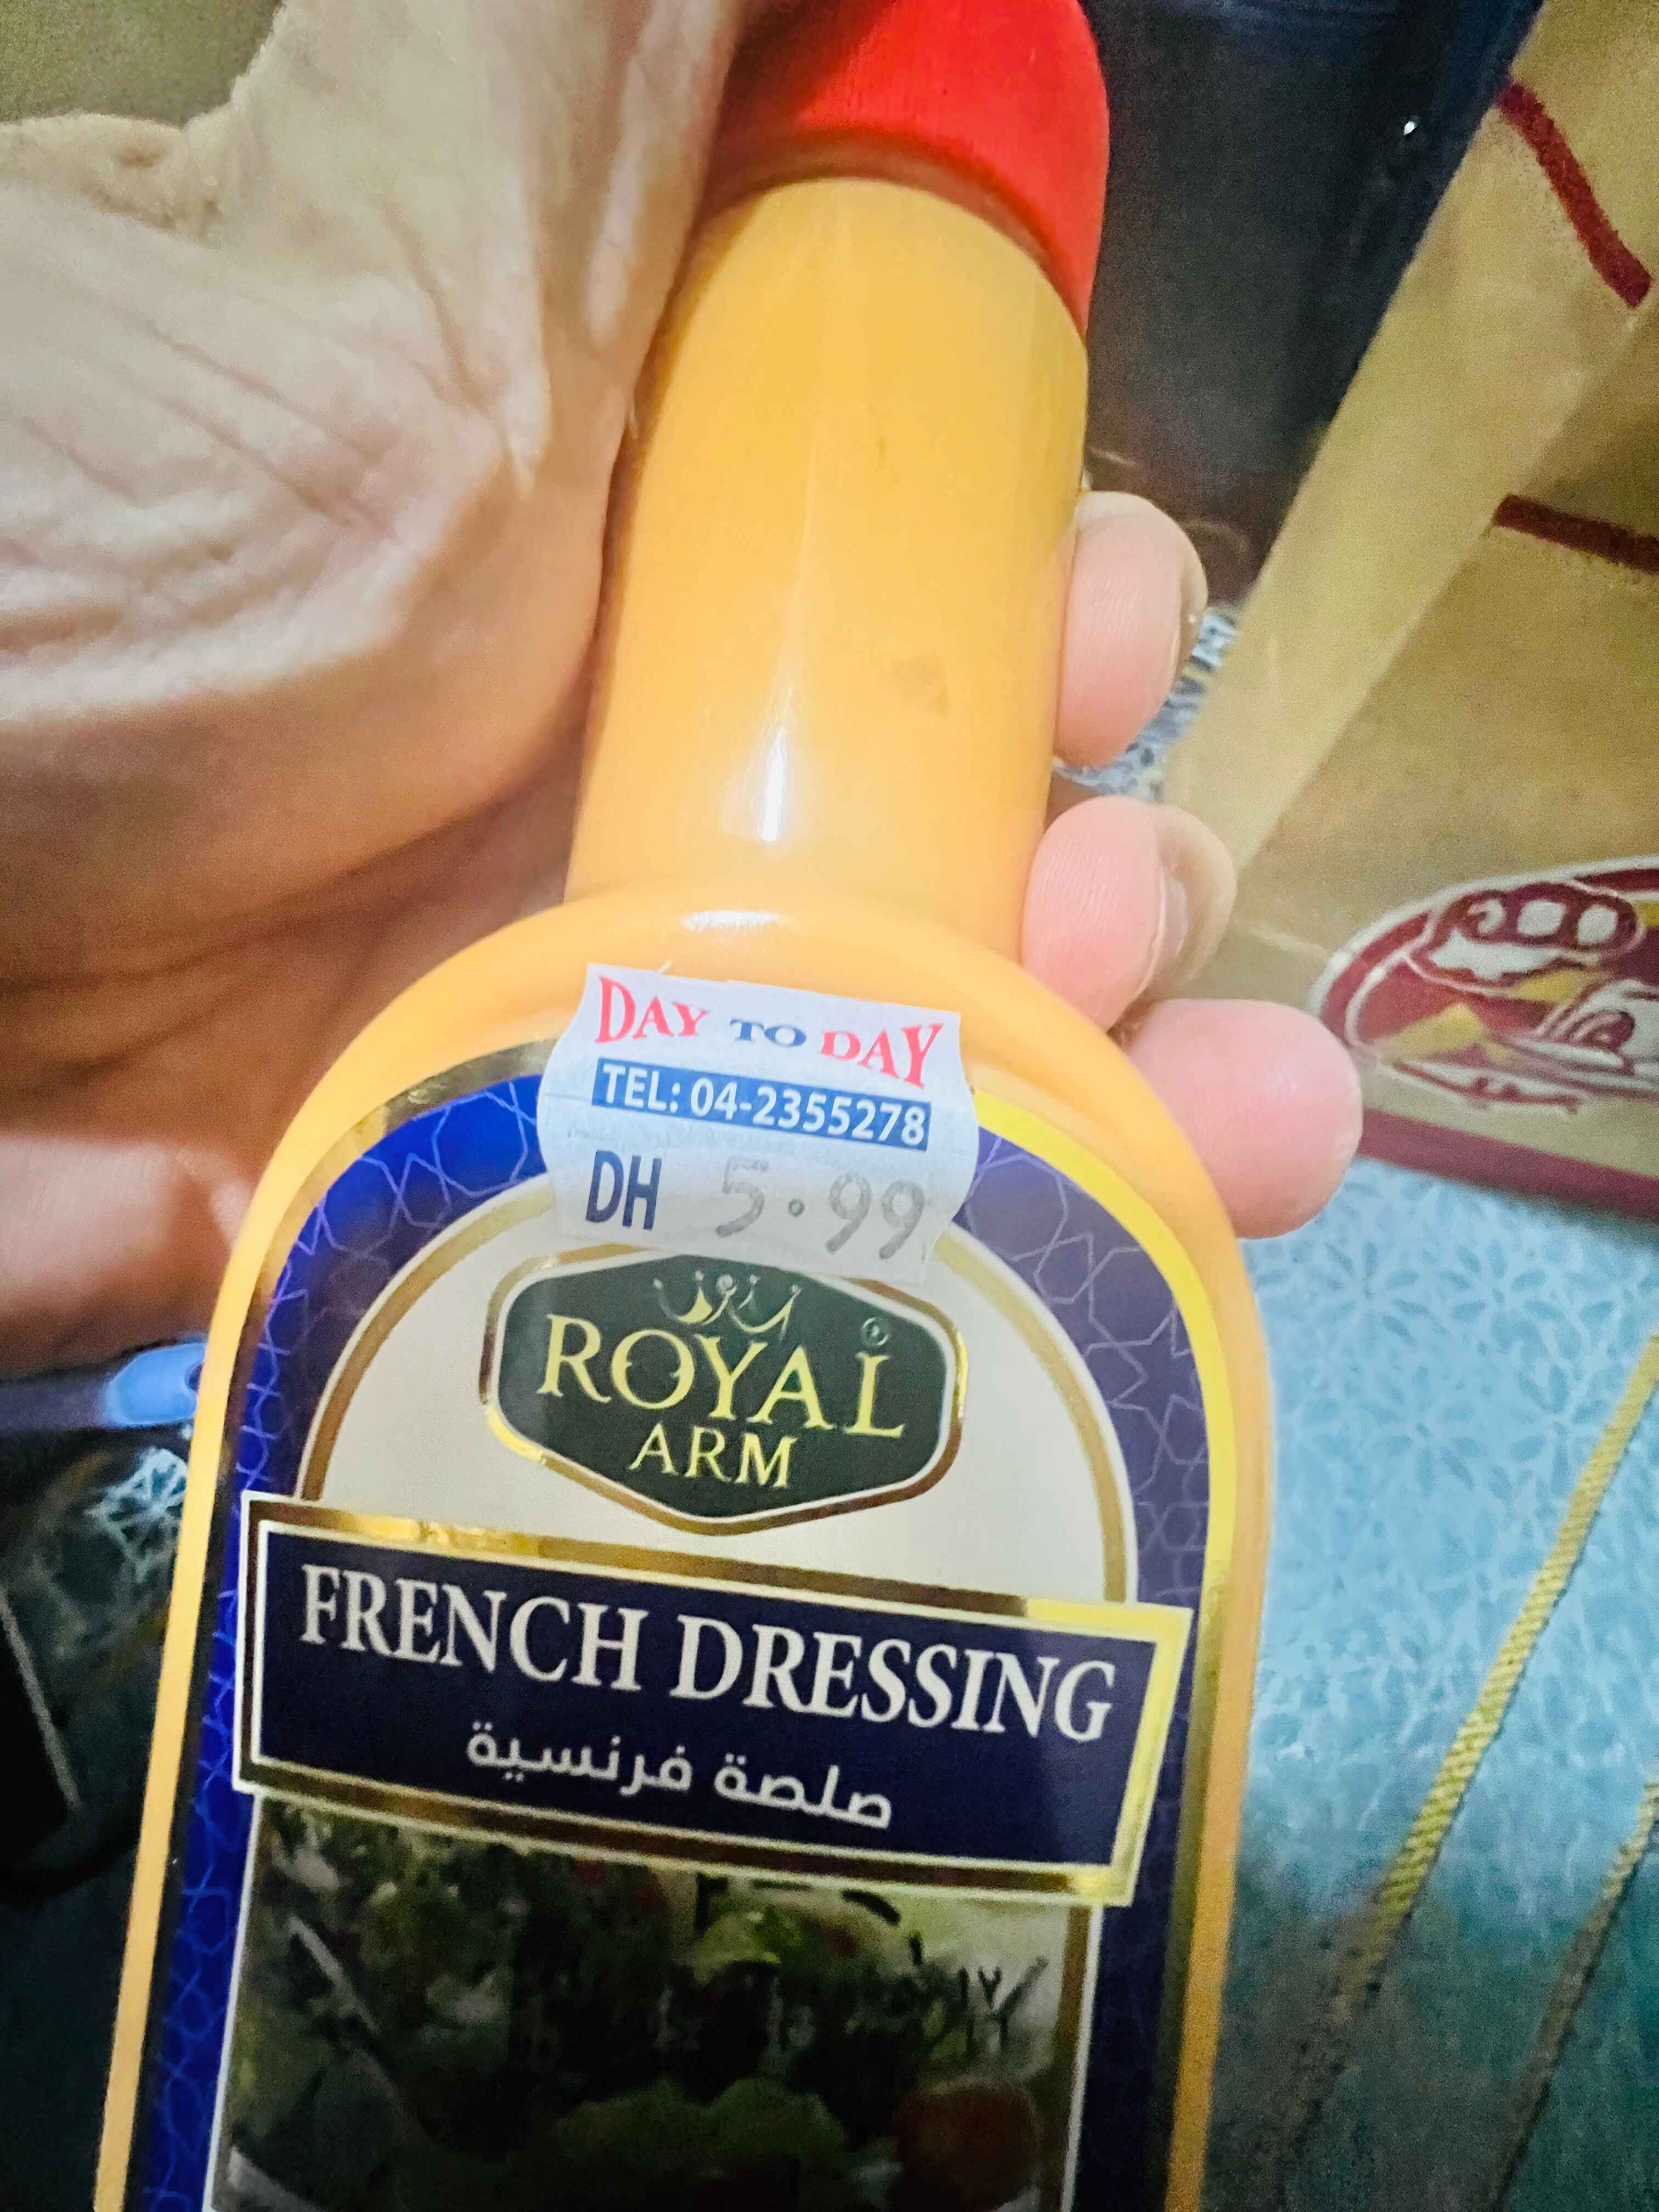PriceTagSmall: (540, 968, 995, 1277)
